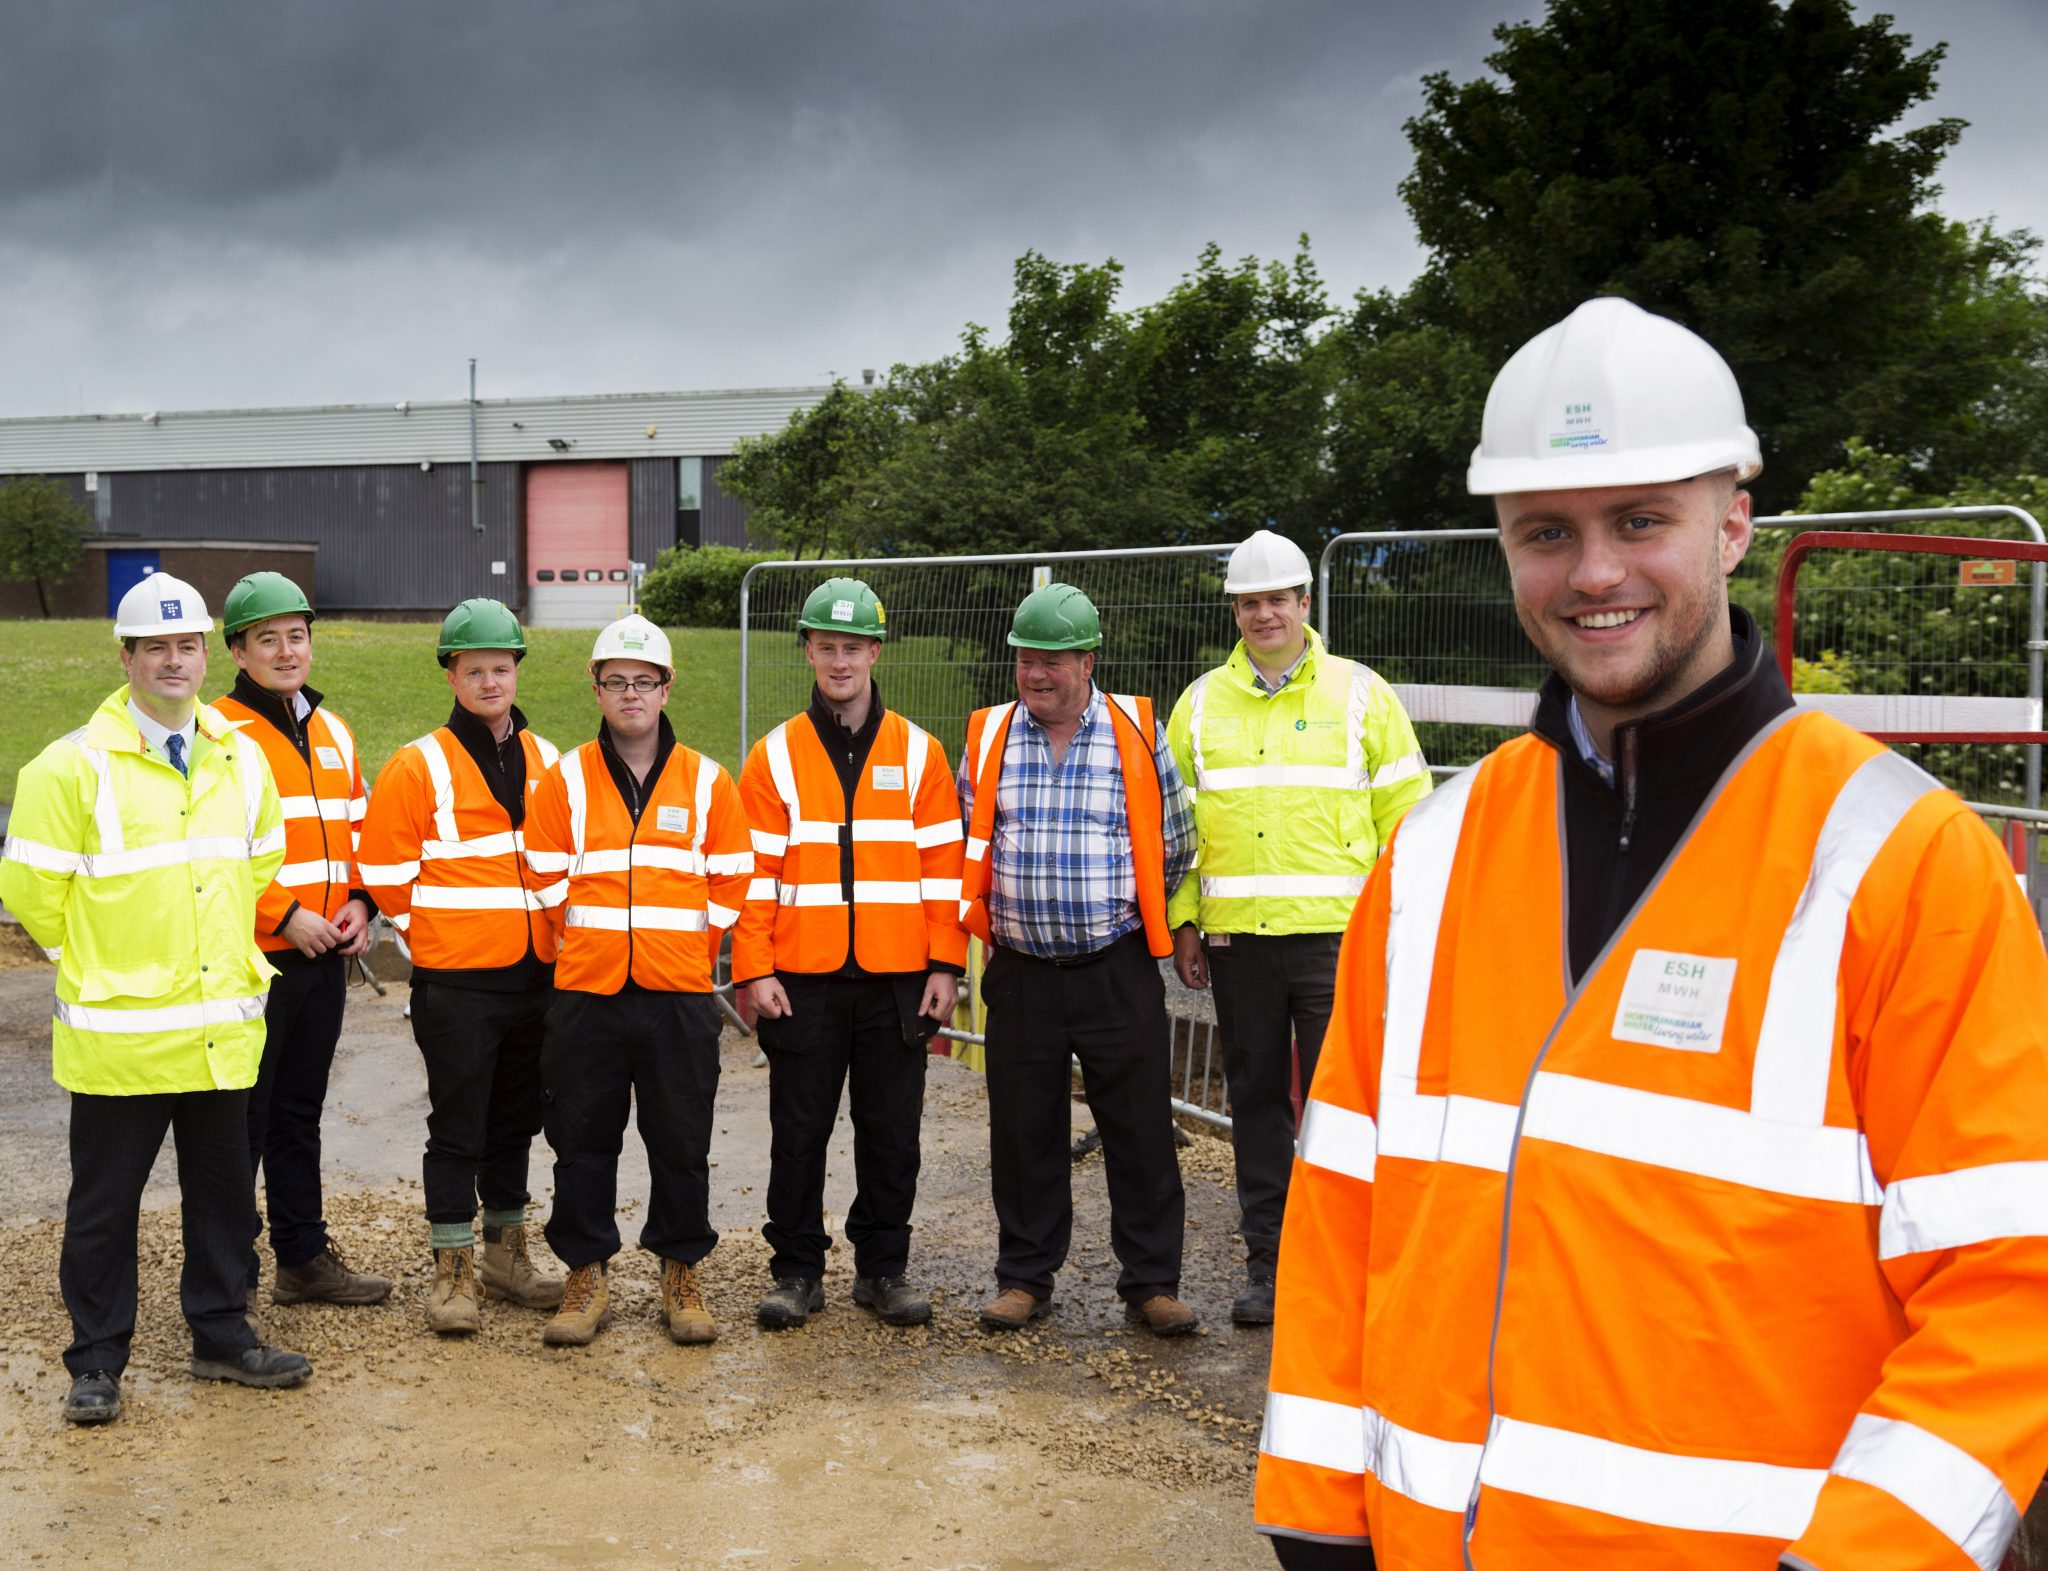Helmet: (1449, 285, 1800, 804), (81, 541, 234, 748), (205, 536, 365, 721), (1195, 502, 1345, 686), (774, 558, 914, 746), (990, 563, 1135, 744), (571, 583, 693, 782), (413, 571, 551, 741)
Reflective vest: (1249, 688, 2046, 1571), (5, 696, 285, 1130), (1157, 635, 1457, 974), (724, 705, 969, 1025), (956, 688, 1183, 980), (515, 738, 757, 1000), (355, 710, 578, 987), (206, 698, 381, 984)
